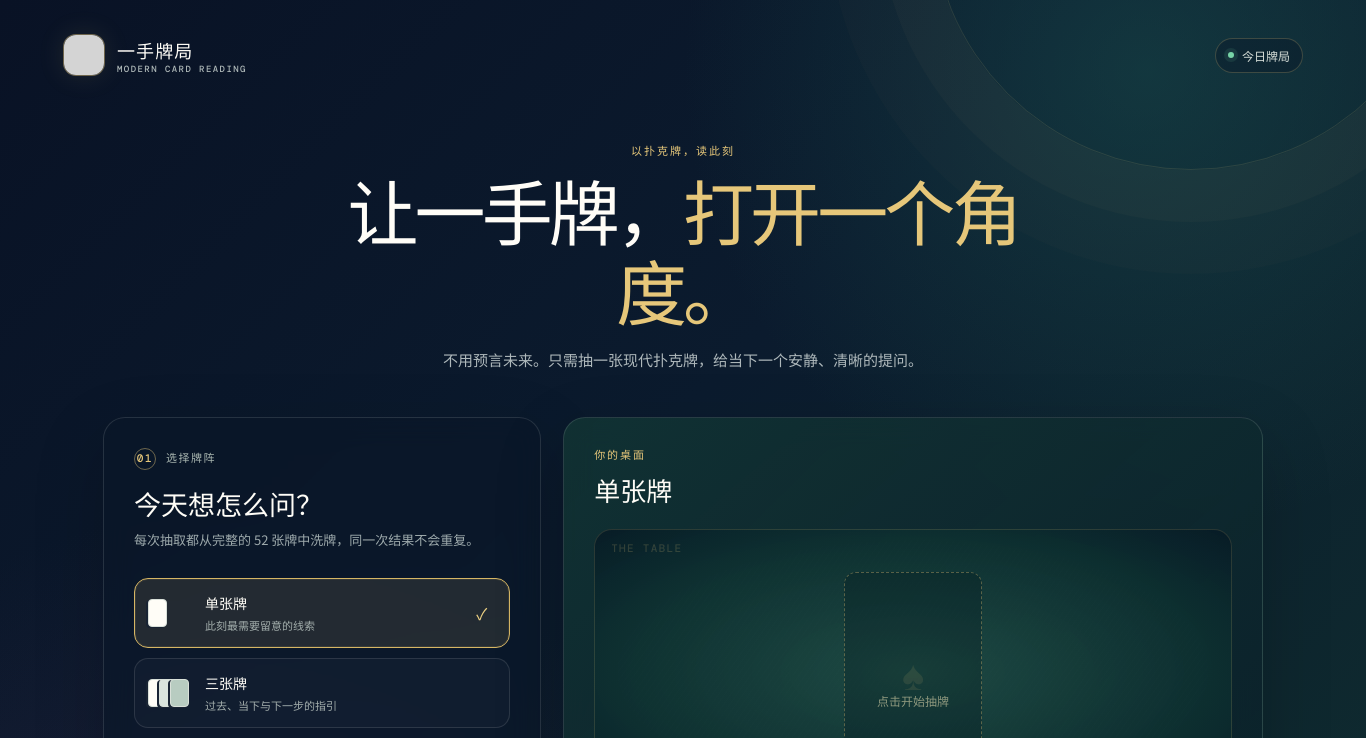
塔罗牌阵游戏 › 切换到三张牌阵后抽取三张不同的牌
Click the radio button labelled "三张牌 过去、当下与下一步的指引": (226, 683) [134,658,510,728]
(page scrolled)
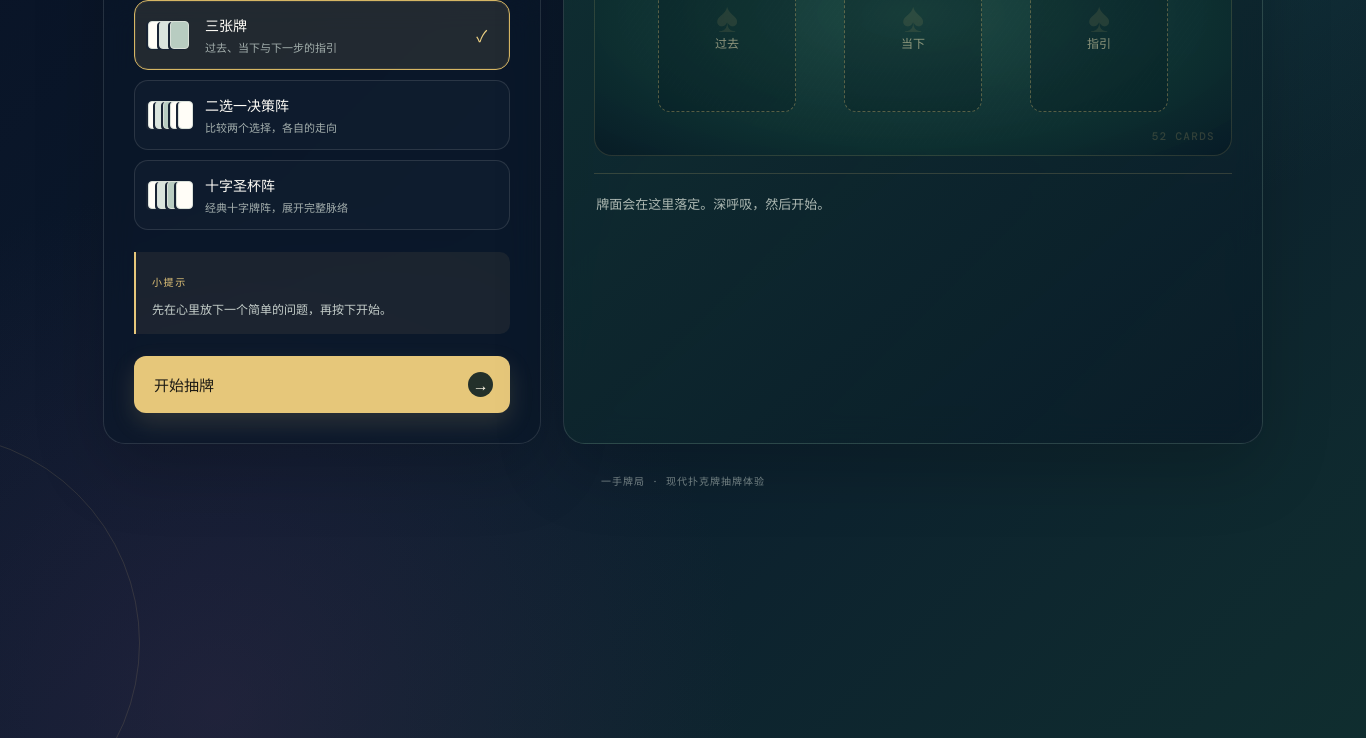
Click the button "开始抽牌 →": (184, 384) [134,356,510,412]
Wait 540 ms
(page scrolled)
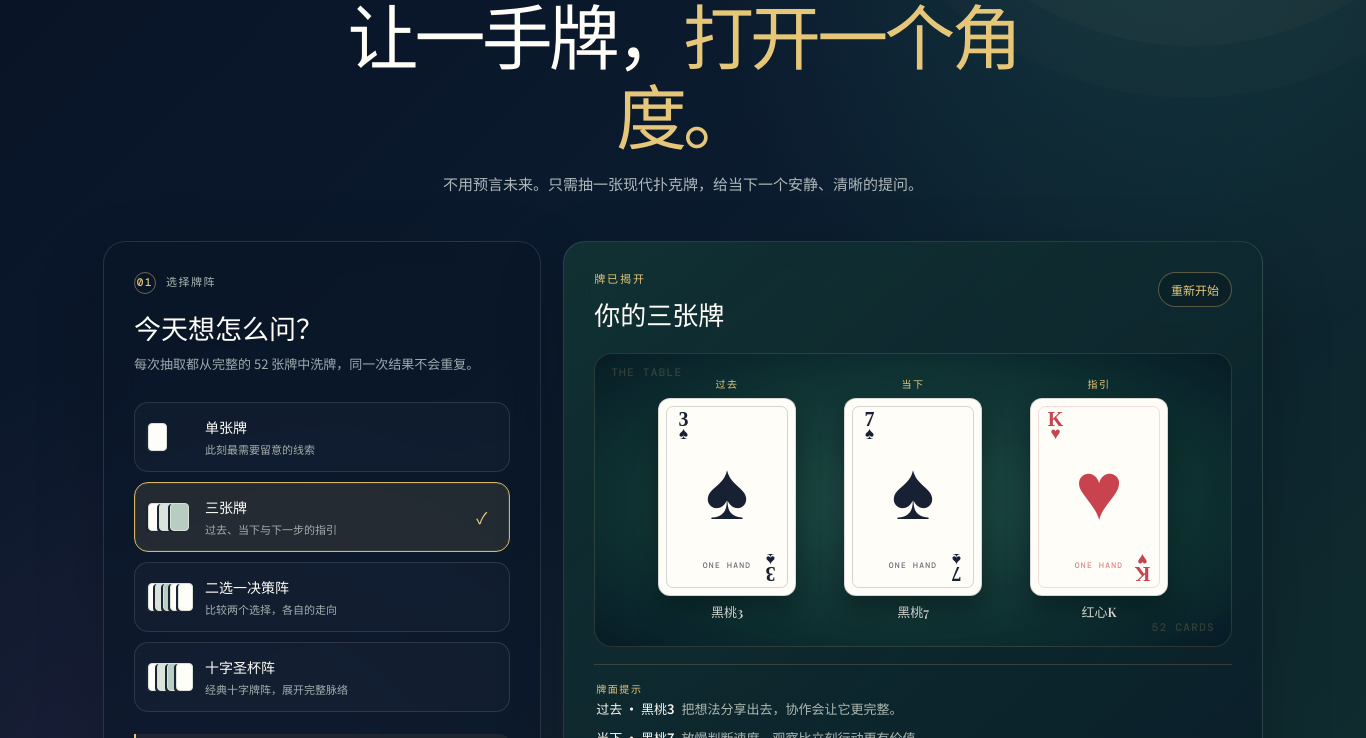
Now the text "过去" is shown, box [716,380,739,390]
Now the text "当下" is shown, box [902,380,925,390]
Now the text "指引" is shown, box [1088,380,1111,390]
